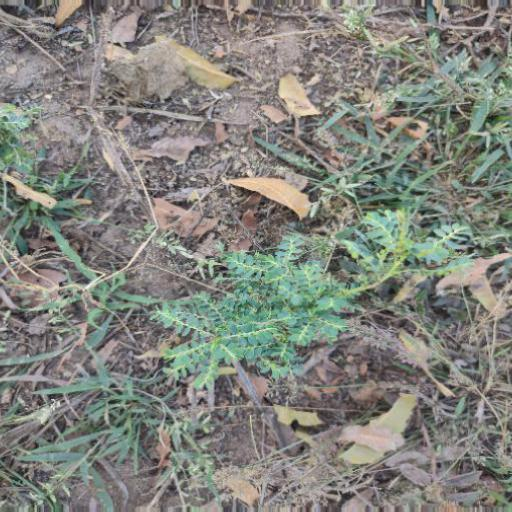weed: (163, 241, 360, 394), (336, 160, 480, 315)
